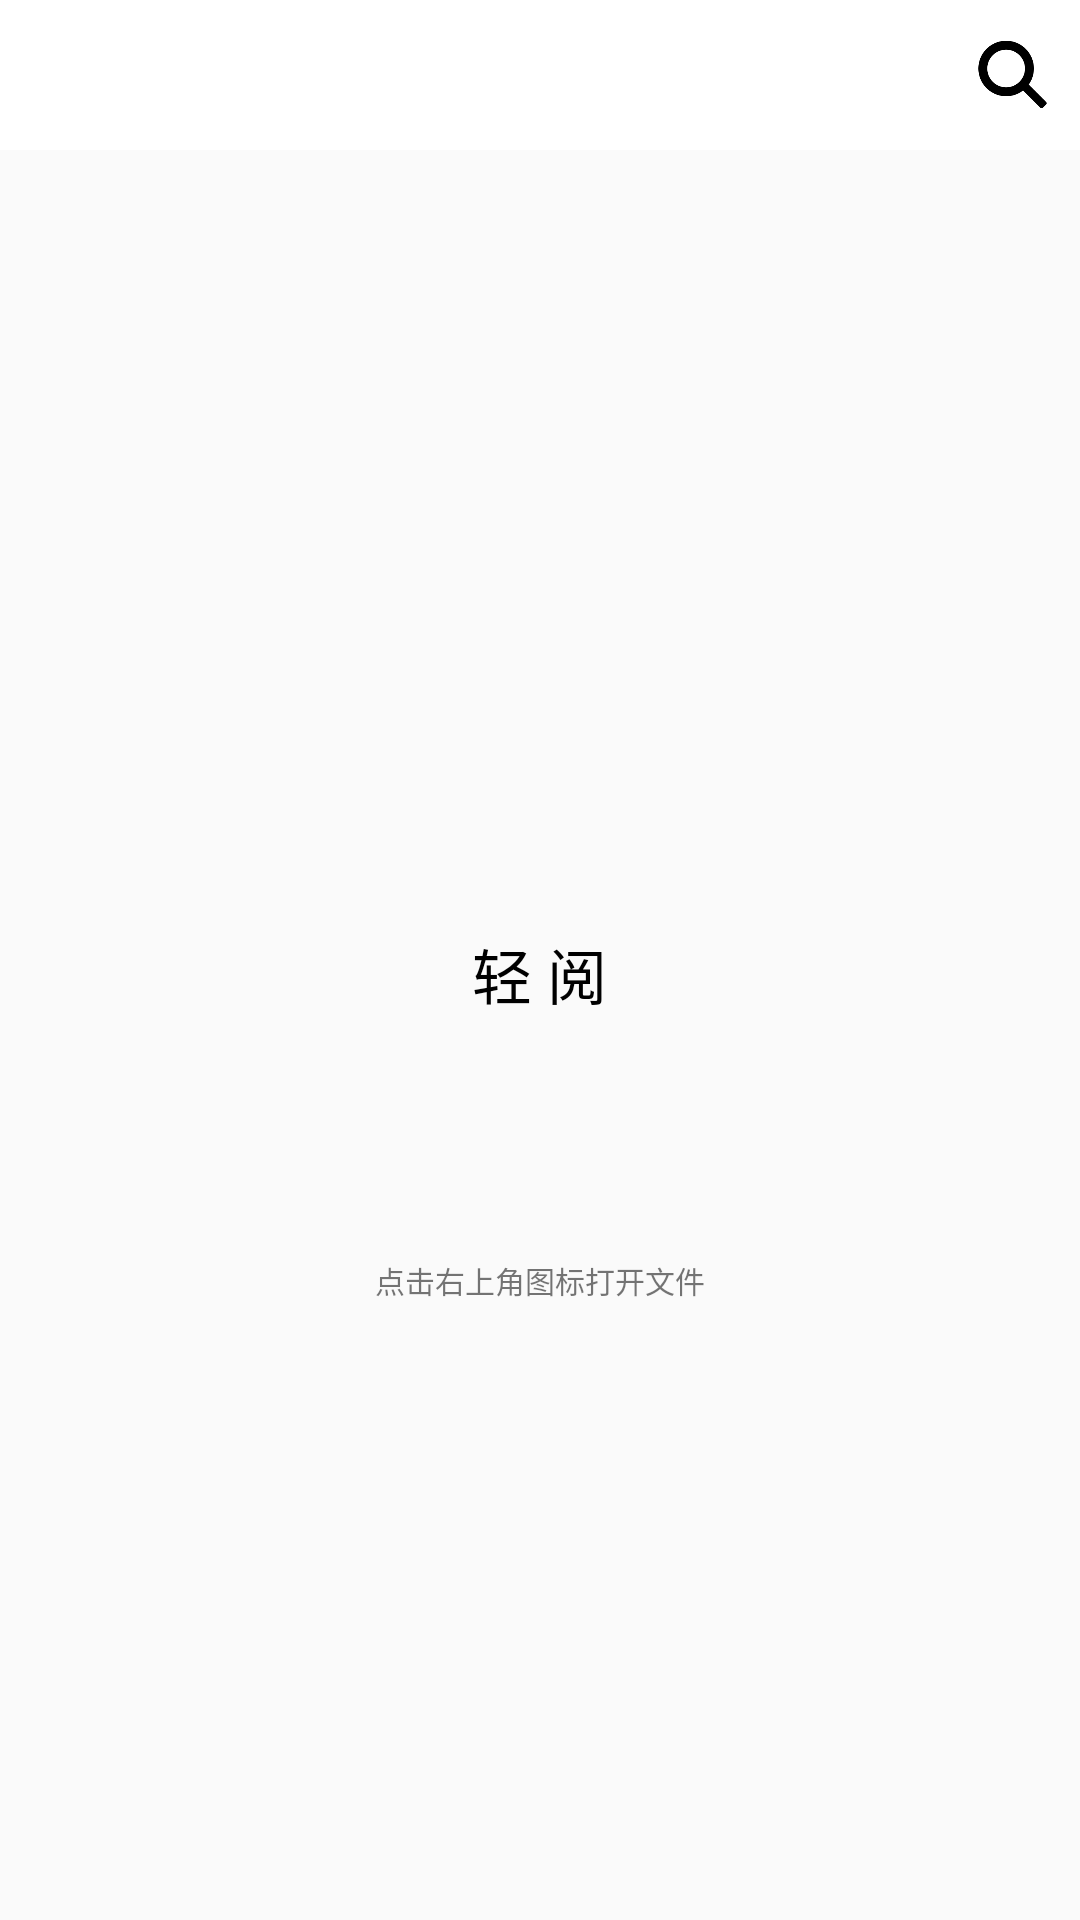

Icon click points for this 1080 × 1920 phone screenshot, format point (x, y):
search: point (1012, 74)
